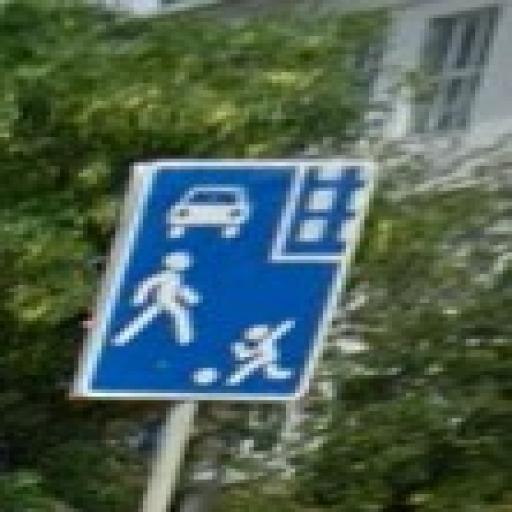traffic_sign: (80, 156, 380, 401)
